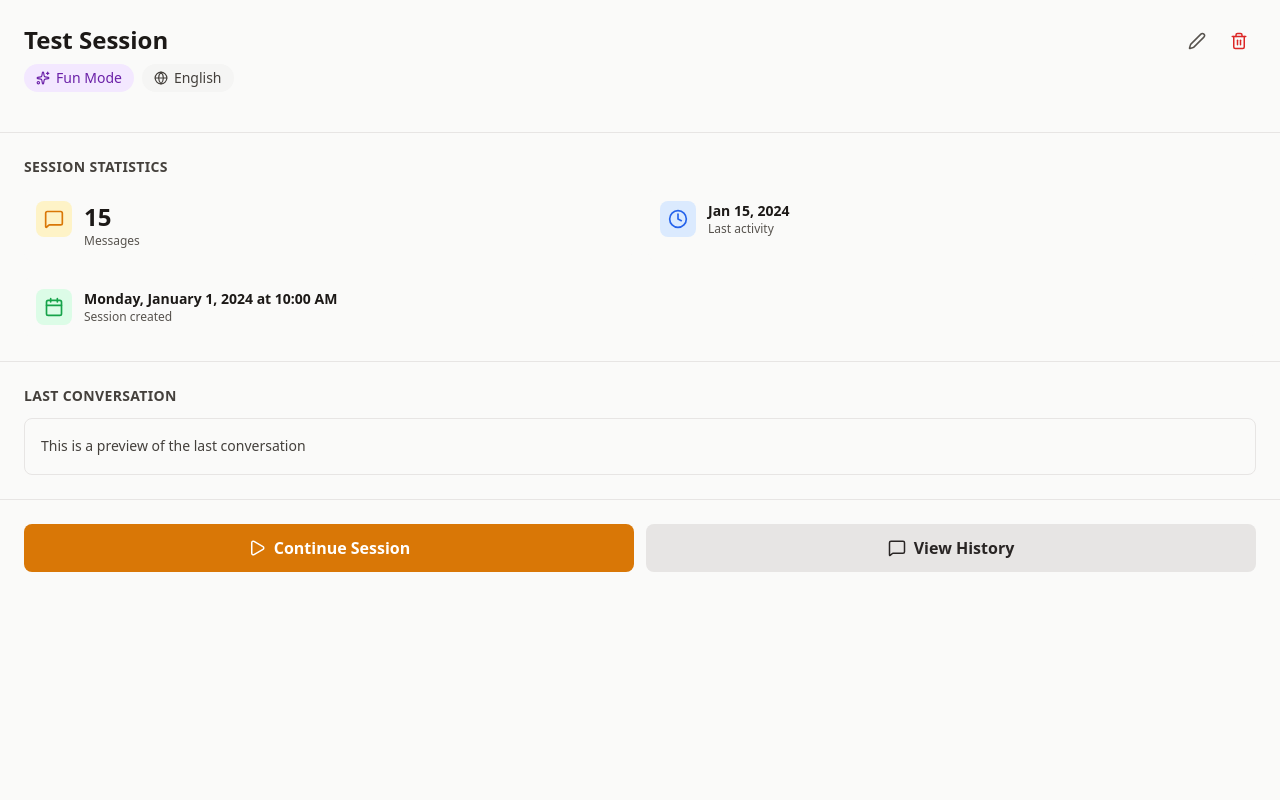
Scenario: SessionPreview Component › Edit Title Functionality › should open edit modal when edit button is clicked
Click the button named "Edit session title". click: (1197, 41)
box: [1180,24,1214,58]
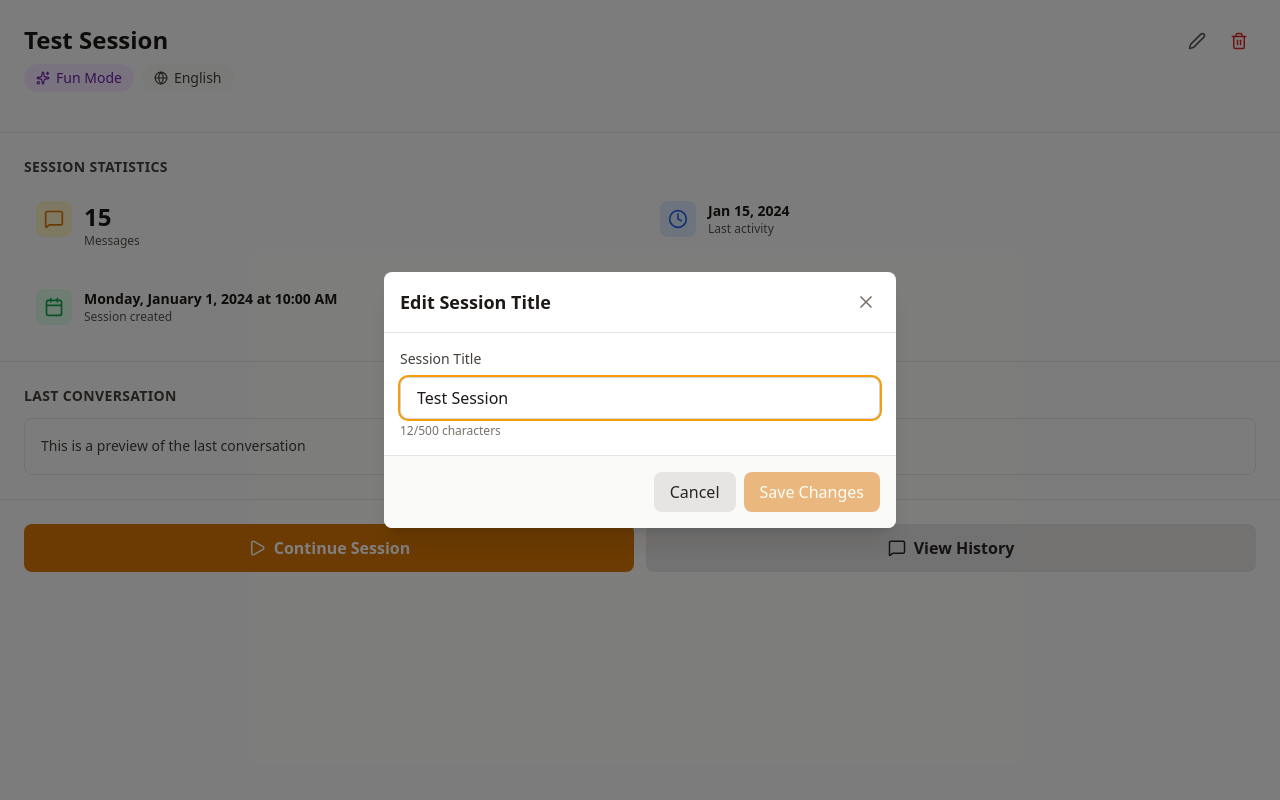
Expected: the heading "Edit Session Title" is shown, [400,288,551,316]
